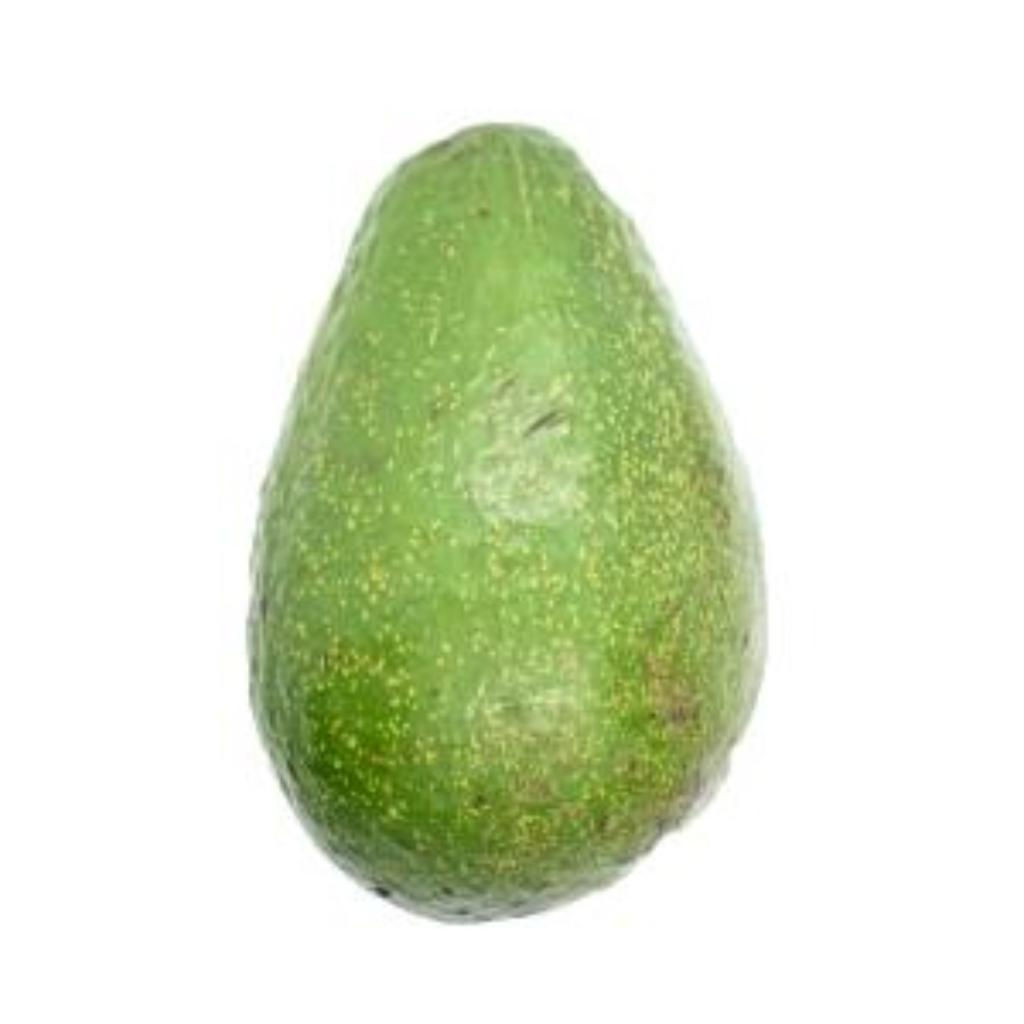cercospora: (228, 106, 781, 925)
